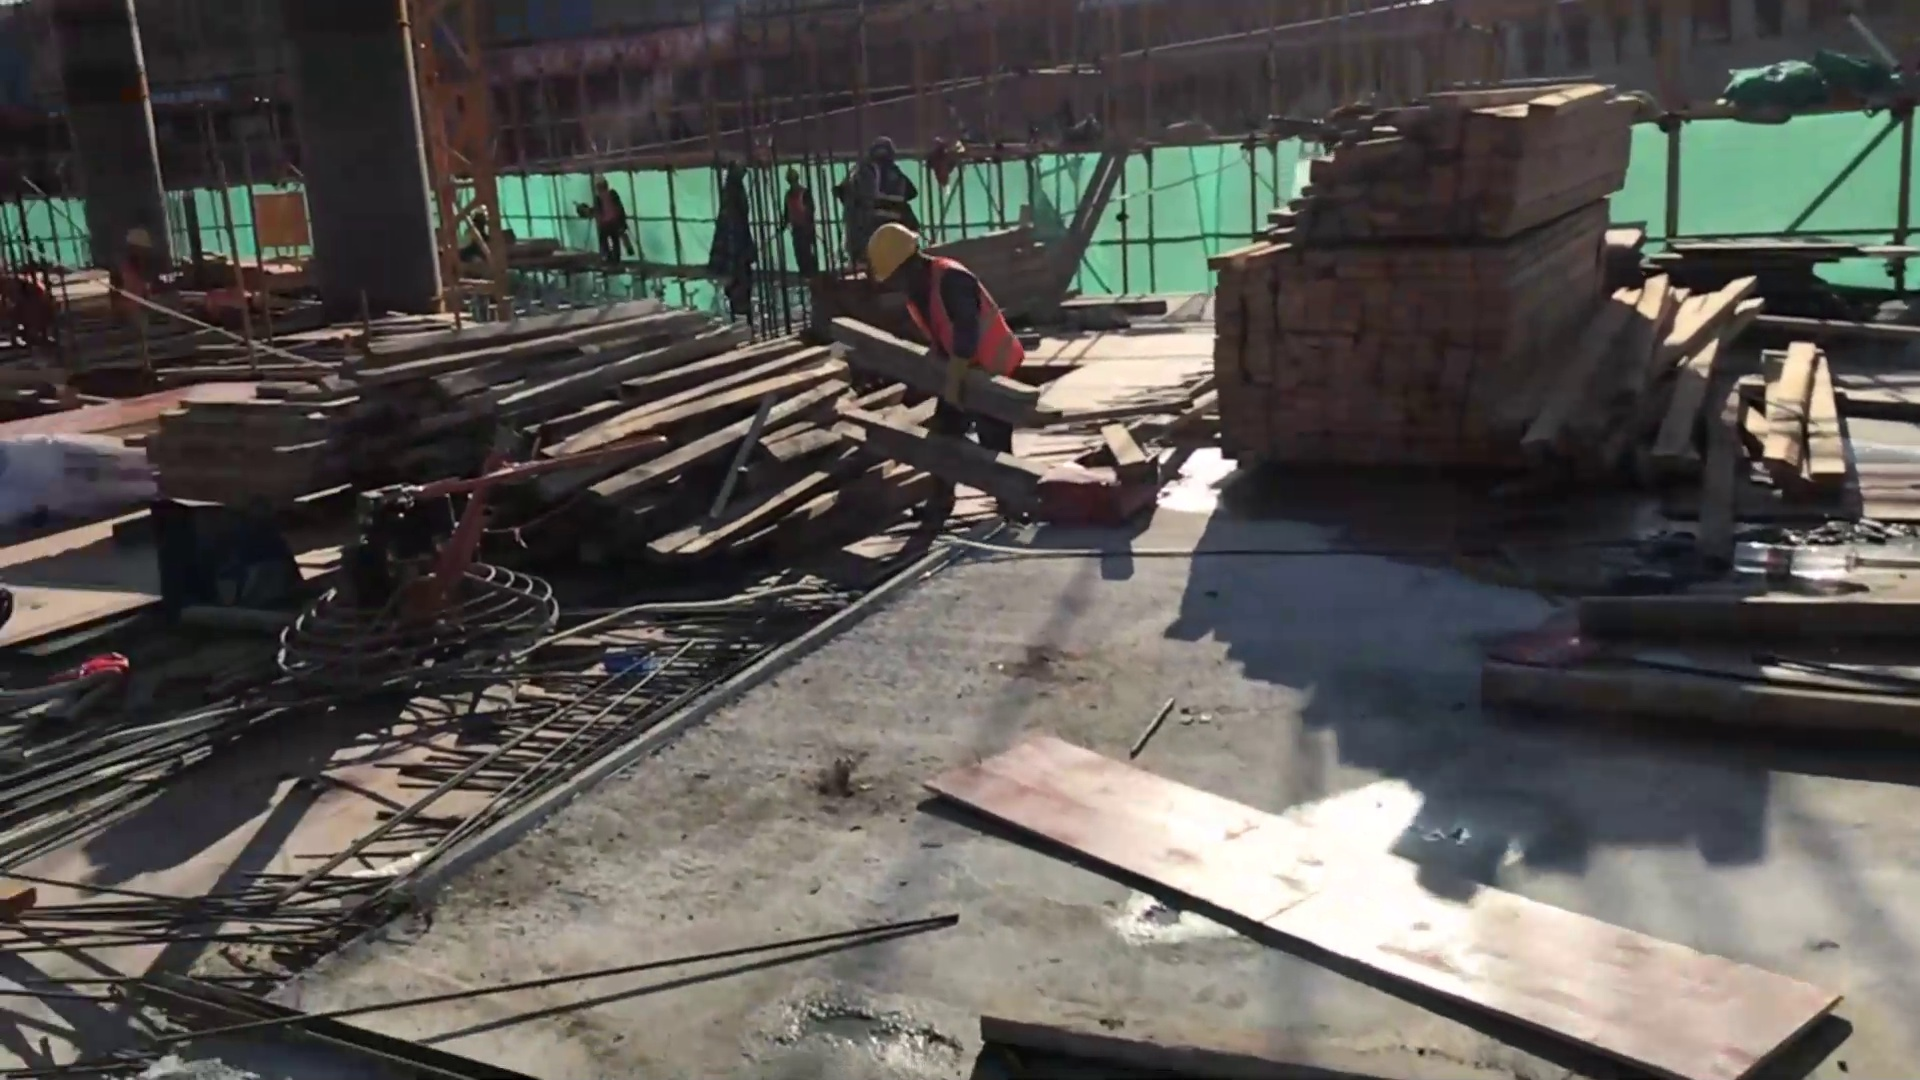helmet: (870, 226, 920, 278)
person: (865, 222, 1021, 533), (846, 135, 915, 245), (577, 173, 647, 269), (779, 165, 821, 281)
vest: (903, 268, 1023, 402)
wood: (140, 329, 833, 623), (1198, 92, 1690, 493)
